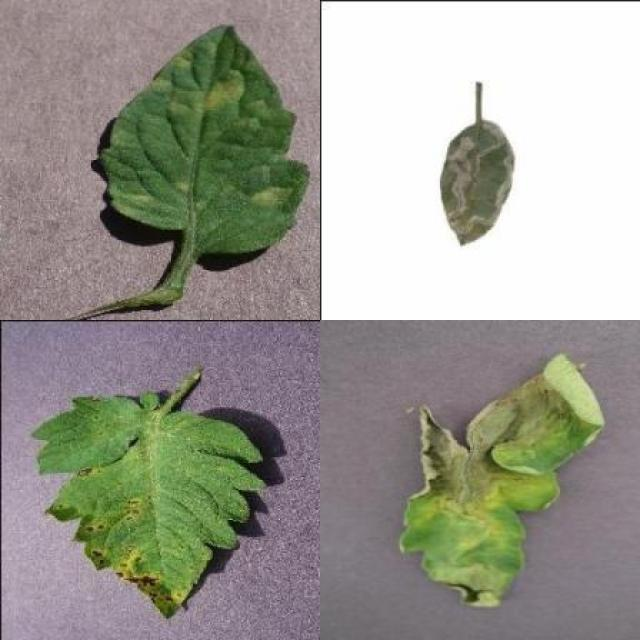Late Blight: (397, 353, 609, 607)
Leaf Miner: (438, 119, 512, 245)
Leaf Mold: (99, 24, 311, 255)
Septoria: (30, 390, 264, 620)
